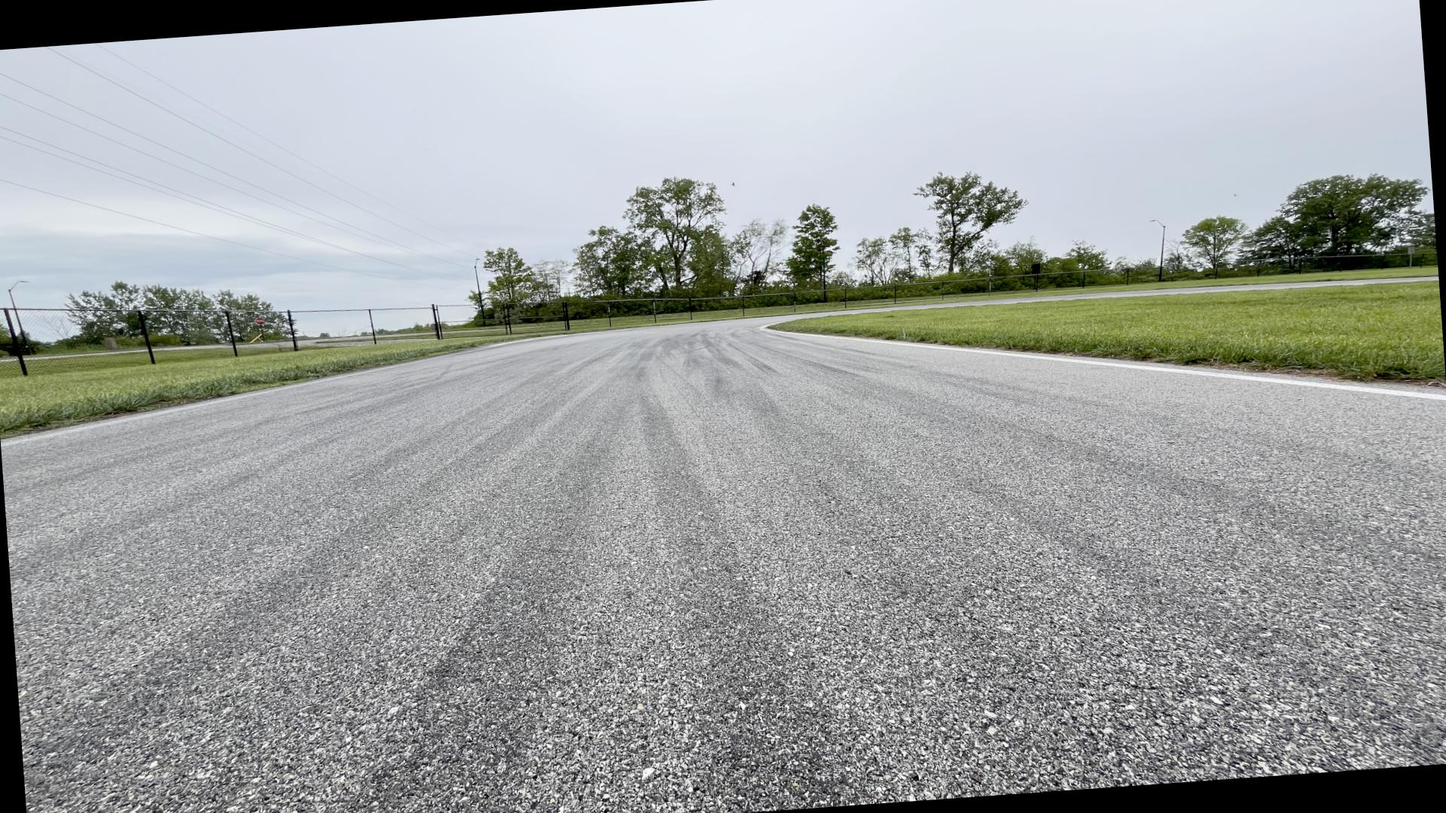white-line: (1, 317, 755, 450), (759, 309, 1445, 403)
